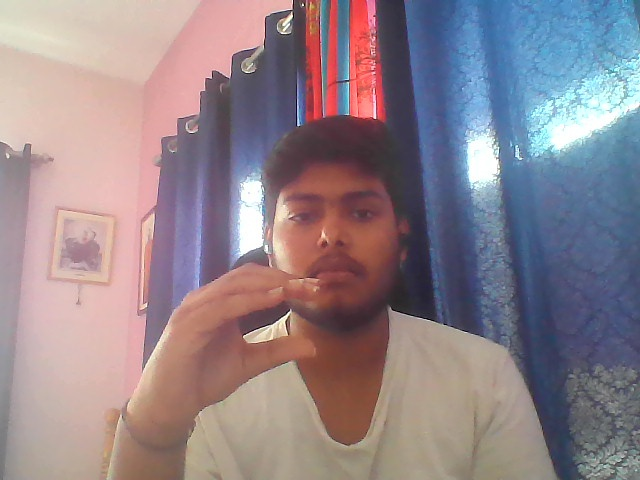No: (137, 257, 328, 414)
